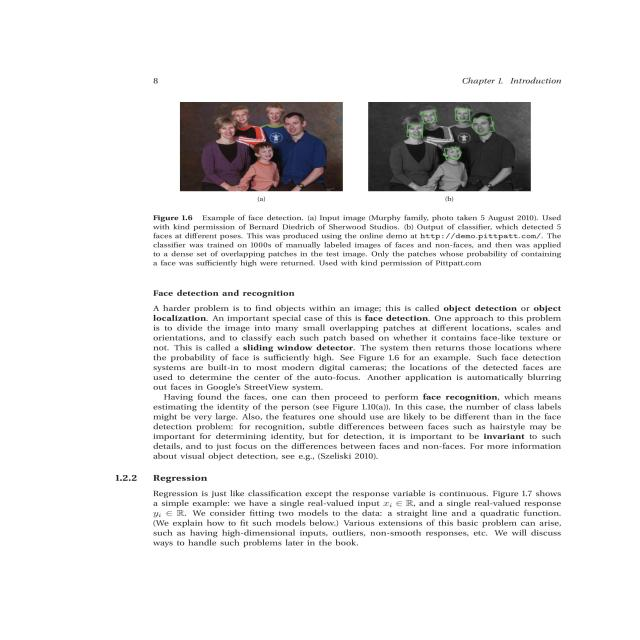diagram: (153, 90, 640, 267)
